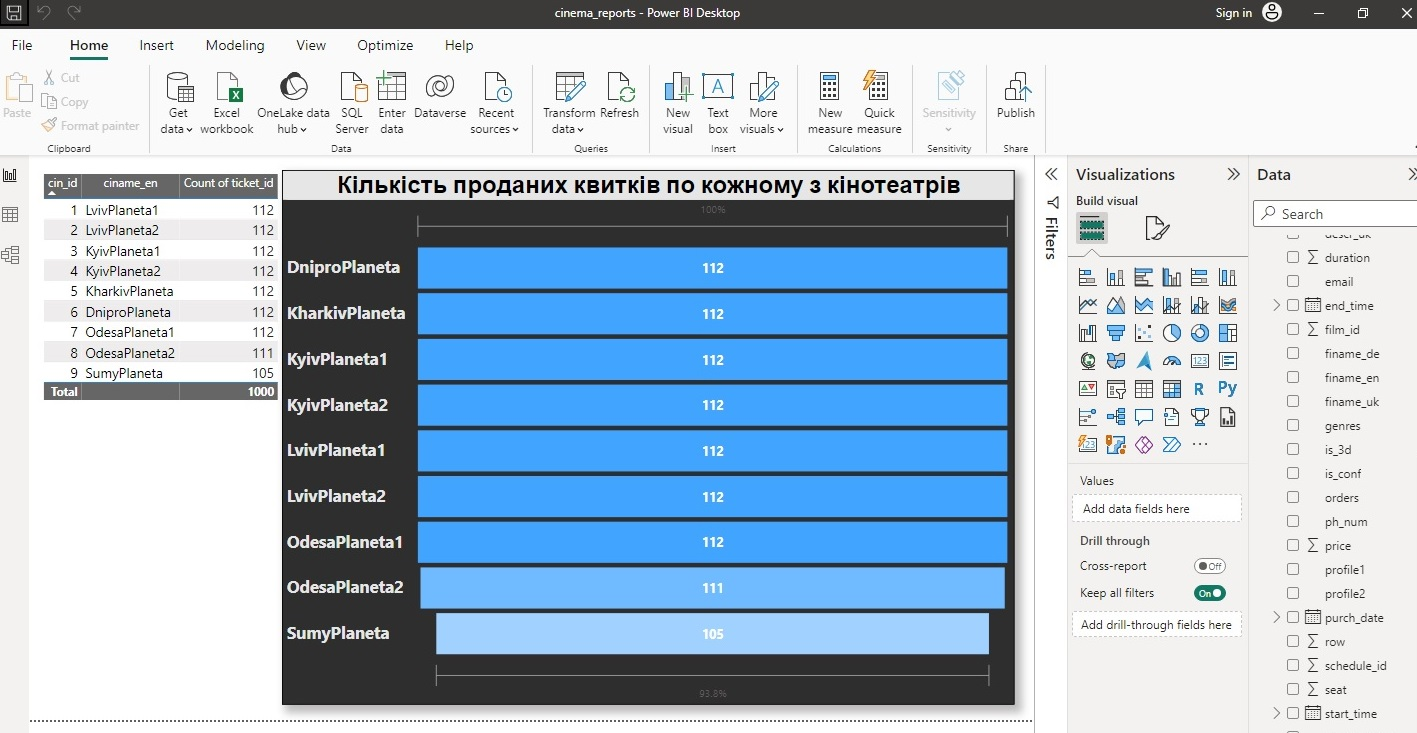

What the dashboard file says about the page in this screenshot:
{"tool":"powerbi","page":{"name":"TicksPerCin","canvas":[1280,720],"ordinal":0},"visuals":[{"type":"tableEx","fields":{"Values":["public cinema_data.cin_id","public cinema_data.ciname_en","CountNonNull(public cinema_data.ticket_id)"]},"box":[12.9,18.6,310,301.4],"z":0},{"type":"funnel","title":"Кількість проданих квитків по кожному з кінотеатрів","fields":{"Category":["public cinema_data.cin_id","public cinema_data.ciname_en"],"Y":["CountNonNull(public cinema_data.ticket_id)"]},"box":[322.9,18.6,932.9,681.4],"z":1000}]}

Visuals, with their boxes on the page's 1280x720 design canvas (x1, y1, x2, y2). These are canvas units, not pixel positions in the 1417x733 screenshot, which may show the page scaled, cropped or inside an application window:
tableEx - public cinema_data.cin_id x public cinema_data.ciname_en: (13,19,323,320)
"Кількість проданих квитків по кожному з кінотеатрів" funnel: (323,19,1256,700)
